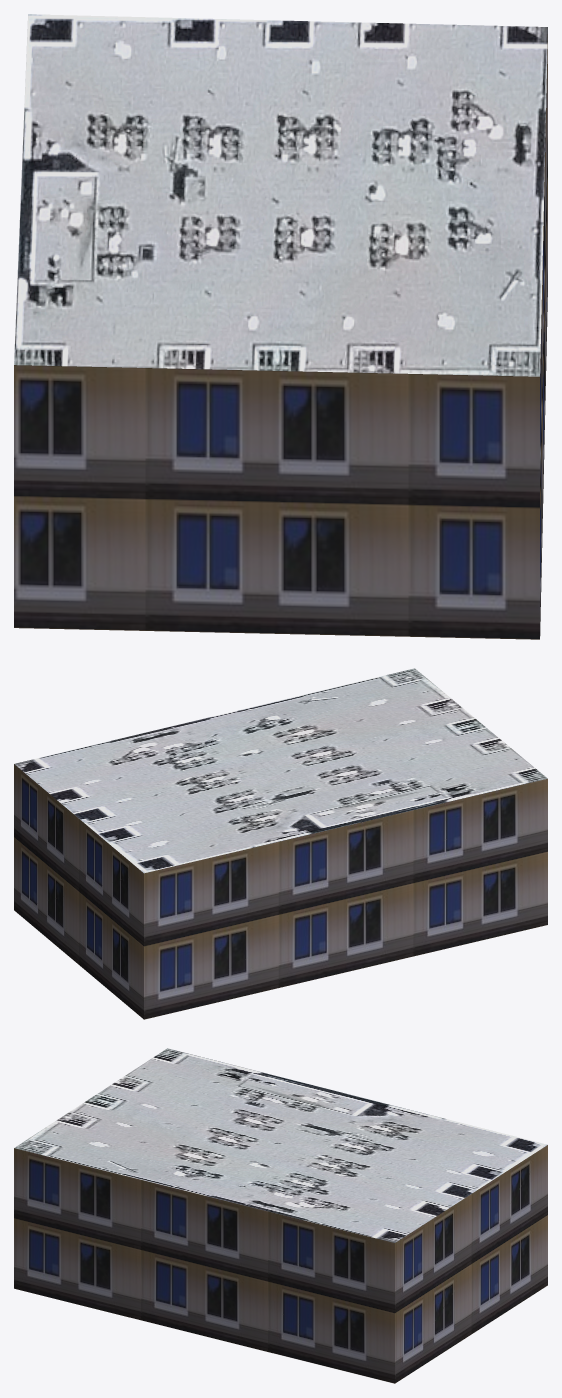
Rendered from ResTex__797.fbx.
The picture shows the model from 3 angles, top to bottom: view 1: azimuth 30°, elevation 25°; view 2: azimuth 150°, elevation 25°; view 3: azimuth 270°, elevation 25°; orthographic projection. The views are drawn at different scales.
Parts seen in each view (by area): view 1: CityEngineMaterial_m, CityEngineMaterial_5_m; view 2: CityEngineMaterial_5_m, CityEngineMaterial_m; view 3: CityEngineMaterial_5_m, CityEngineMaterial_m.
Part boxes in pixels (box(x1,y1,x2,y2)): CityEngineMaterial_m: box(14, 14, 547, 376); CityEngineMaterial_5_m: box(14, 34, 547, 639); CityEngineMaterial_5_m: box(14, 764, 547, 1019); CityEngineMaterial_m: box(14, 668, 547, 873); CityEngineMaterial_5_m: box(14, 1145, 547, 1383); CityEngineMaterial_m: box(14, 1048, 547, 1242).
Size of the model in its own units: 17.83 by 6 by 20.65.
2 materials, 2 textured.
